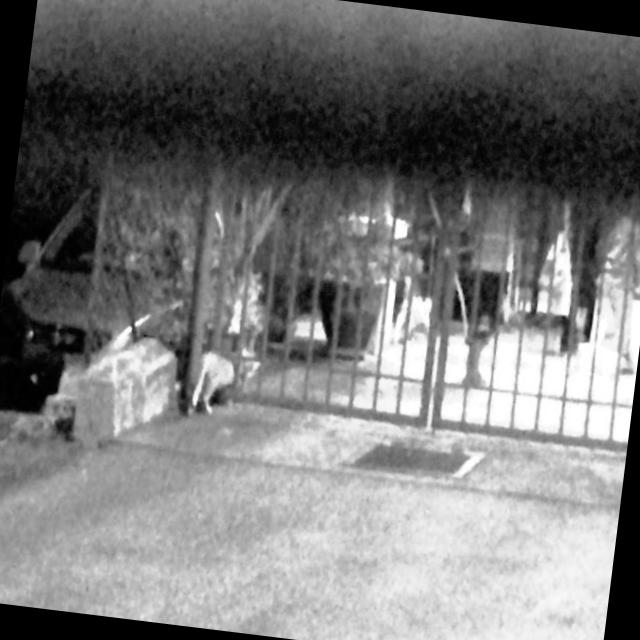Cat: (183, 342, 264, 424)
